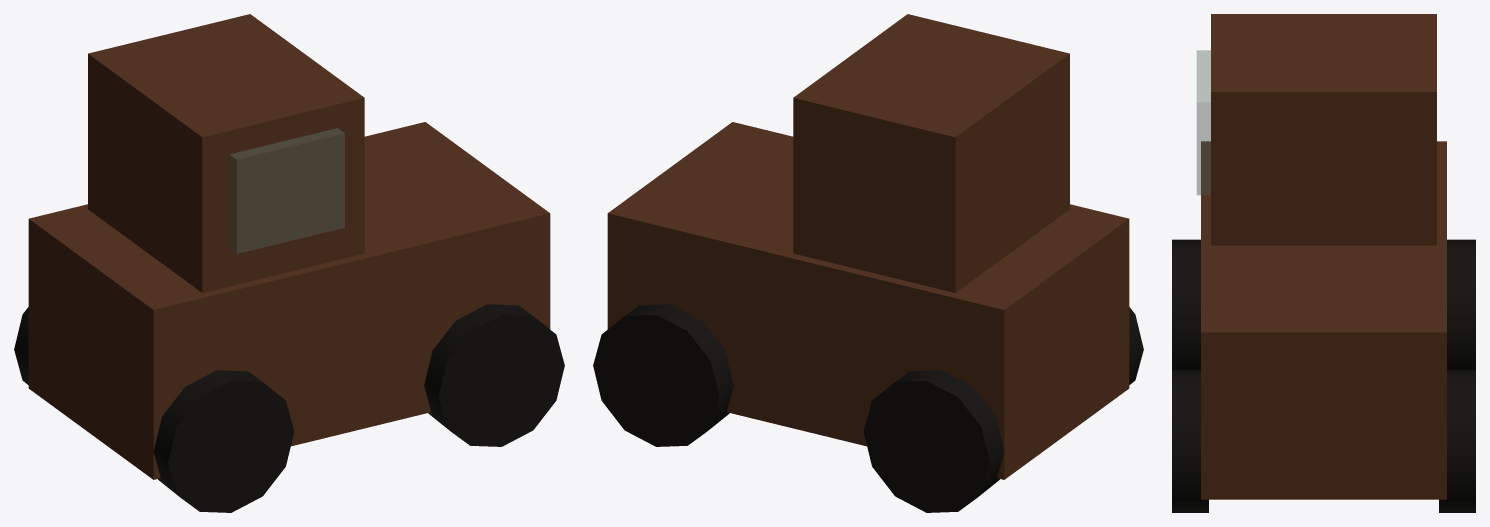
Rendered from toy_truck.glb.
The picture shows the model from 3 angles, left to right: view 1: azimuth 30°, elevation 25°; view 2: azimuth 150°, elevation 25°; view 3: azimuth 270°, elevation 25°; orthographic projection.
Parts seen in each view (by area): view 1: rust__tin_body, rust__cab, _MeshInstance3D_183, _MeshInstance3D_185, glass__window, dark__metal_wheel; view 2: rust__tin_body, rust__cab, dark__metal_wheel, _MeshInstance3D_184, _MeshInstance3D_183; view 3: rust__tin_body, rust__cab, _MeshInstance3D_184, _MeshInstance3D_185, dark__metal_wheel, _MeshInstance3D_183, glass__window.
Part boxes in pixels (box(x1,y1,x2,y2)): rust__tin_body: box(28, 122, 550, 479); rust__cab: box(88, 14, 364, 292); _MeshInstance3D_183: box(153, 370, 294, 512); _MeshInstance3D_185: box(424, 304, 564, 446); glass__window: box(229, 128, 344, 253); dark__metal_wheel: box(14, 307, 28, 384); rust__tin_body: box(607, 122, 1129, 479); rust__cab: box(793, 14, 1069, 292); dark__metal_wheel: box(863, 370, 1004, 512); _MeshInstance3D_184: box(593, 304, 733, 446); _MeshInstance3D_183: box(1129, 307, 1143, 384); rust__tin_body: box(1201, 141, 1446, 499); rust__cab: box(1211, 14, 1436, 245); _MeshInstance3D_184: box(1439, 370, 1475, 512); _MeshInstance3D_185: box(1172, 370, 1208, 512); dark__metal_wheel: box(1447, 239, 1475, 369); _MeshInstance3D_183: box(1172, 239, 1200, 369); glass__window: box(1196, 50, 1210, 195).
Bounding box in the file's own units: 0.22 × 0.1925 × 0.148.
